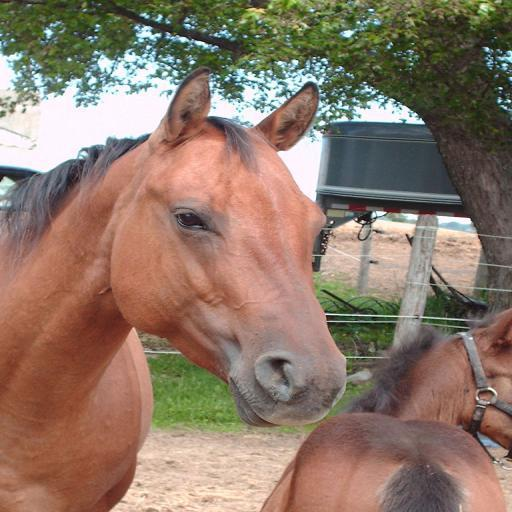horse: (0, 68, 346, 512), (256, 306, 512, 512)
